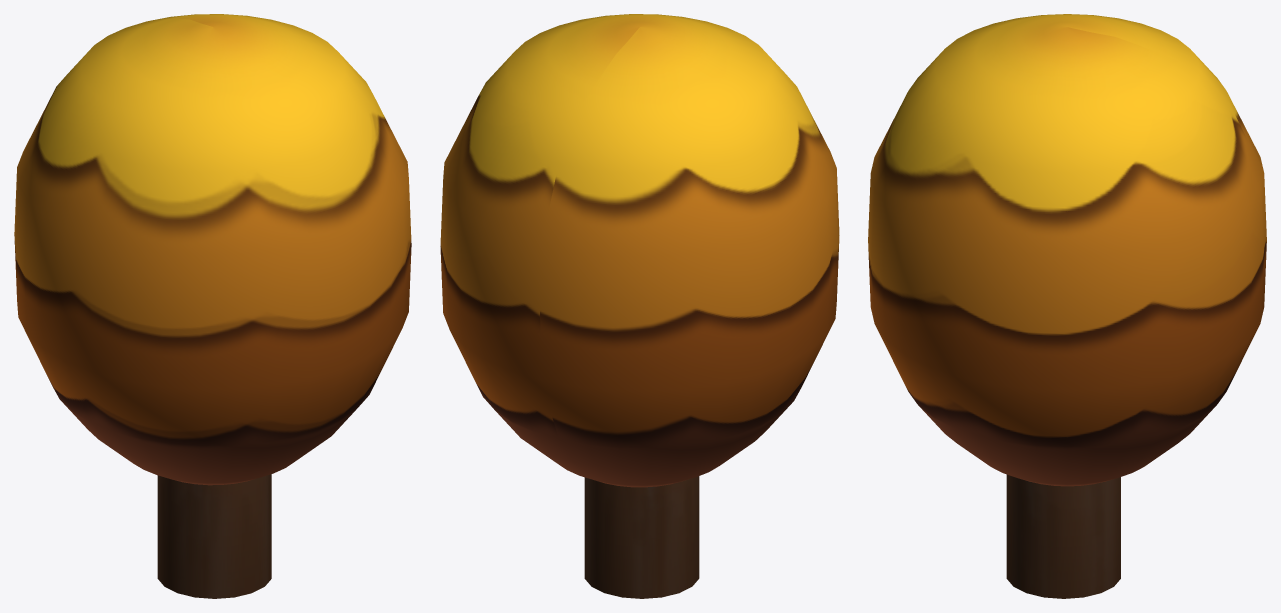
The model's file is tree4.FBX.
The picture shows the model from 3 angles, left to right: view 1: azimuth 30°, elevation 25°; view 2: azimuth 150°, elevation 25°; view 3: azimuth 270°, elevation 25°; orthographic projection.
Parts seen in each view (by area): view 1: Sphere001, Cylinder001; view 2: Sphere001, Cylinder001; view 3: Sphere001, Cylinder001.
Part boxes in pixels (left/top/right/bottom): Sphere001: left=14, top=14, right=411, bottom=485; Cylinder001: left=157, top=474, right=271, bottom=598; Sphere001: left=440, top=14, right=839, bottom=487; Cylinder001: left=584, top=476, right=699, bottom=598; Sphere001: left=868, top=14, right=1266, bottom=486; Cylinder001: left=1006, top=474, right=1120, bottom=598.
Size of the model in its own units: 15.12 by 22.89 by 15.12.
Materials: 1 (1 with a texture image).
